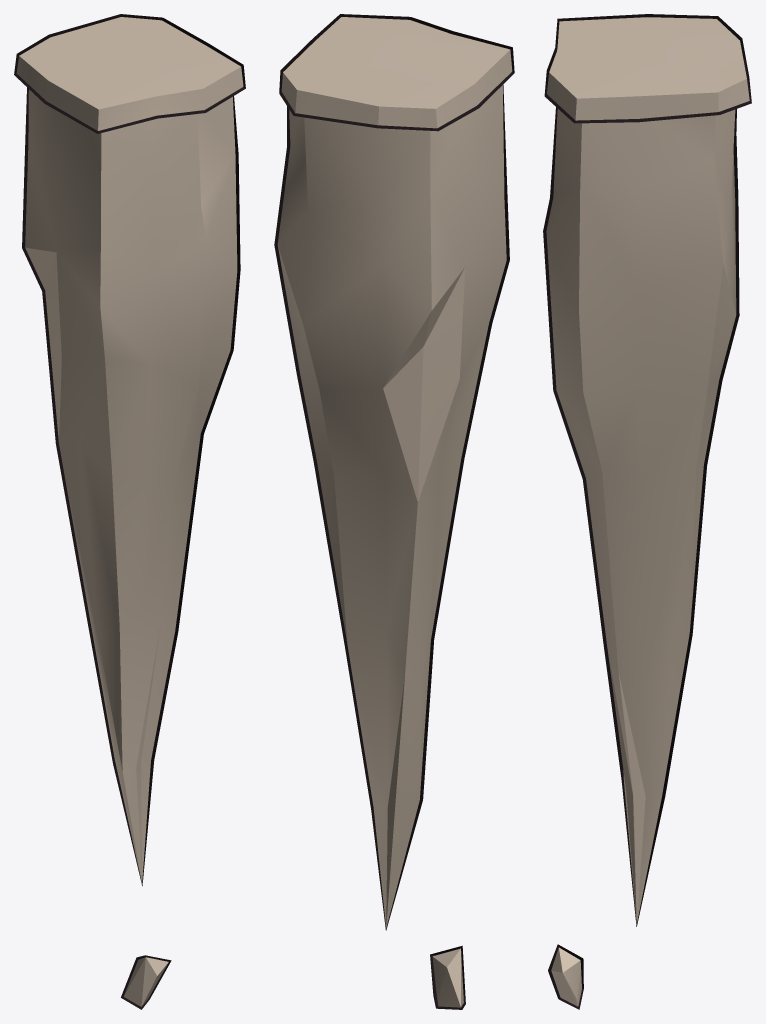
Rendered from SM_Trail_Node_03.fbx.
3 renders of one model, left to right at view 1: azimuth 30°, elevation 25°; view 2: azimuth 150°, elevation 25°; view 3: azimuth 270°, elevation 25°, orthographic. The views are drawn at different scales.
Parts seen in each view (by area): view 1: SM_Trail_Node_03; view 2: SM_Trail_Node_03; view 3: SM_Trail_Node_03.
Part boxes in pixels (left/top/right/bottom): SM_Trail_Node_03: left=14, top=14, right=245, bottom=1009; SM_Trail_Node_03: left=274, top=14, right=514, bottom=1009; SM_Trail_Node_03: left=543, top=14, right=751, bottom=1009.
Bounding box in the file's own units: 8.49 × 44.58 × 8.78.
